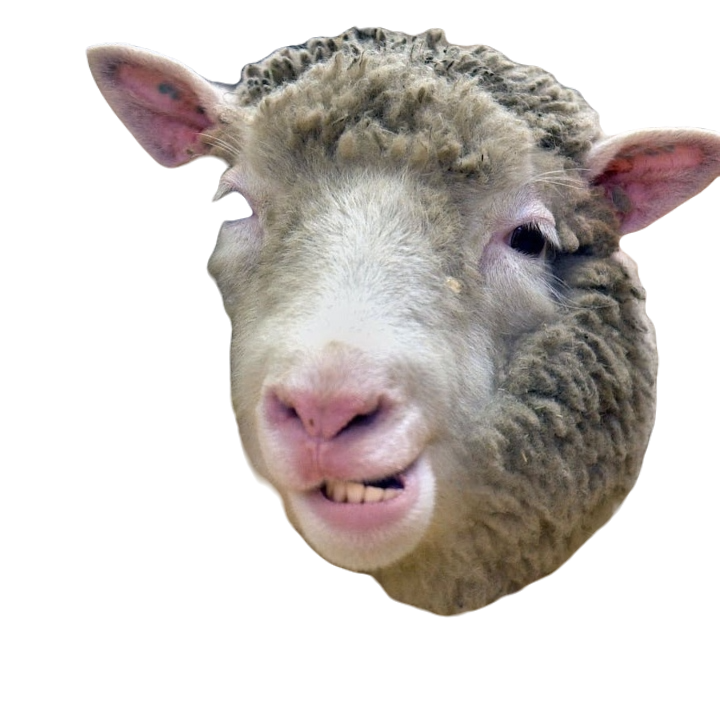Sheep: (80, 24, 719, 618)
